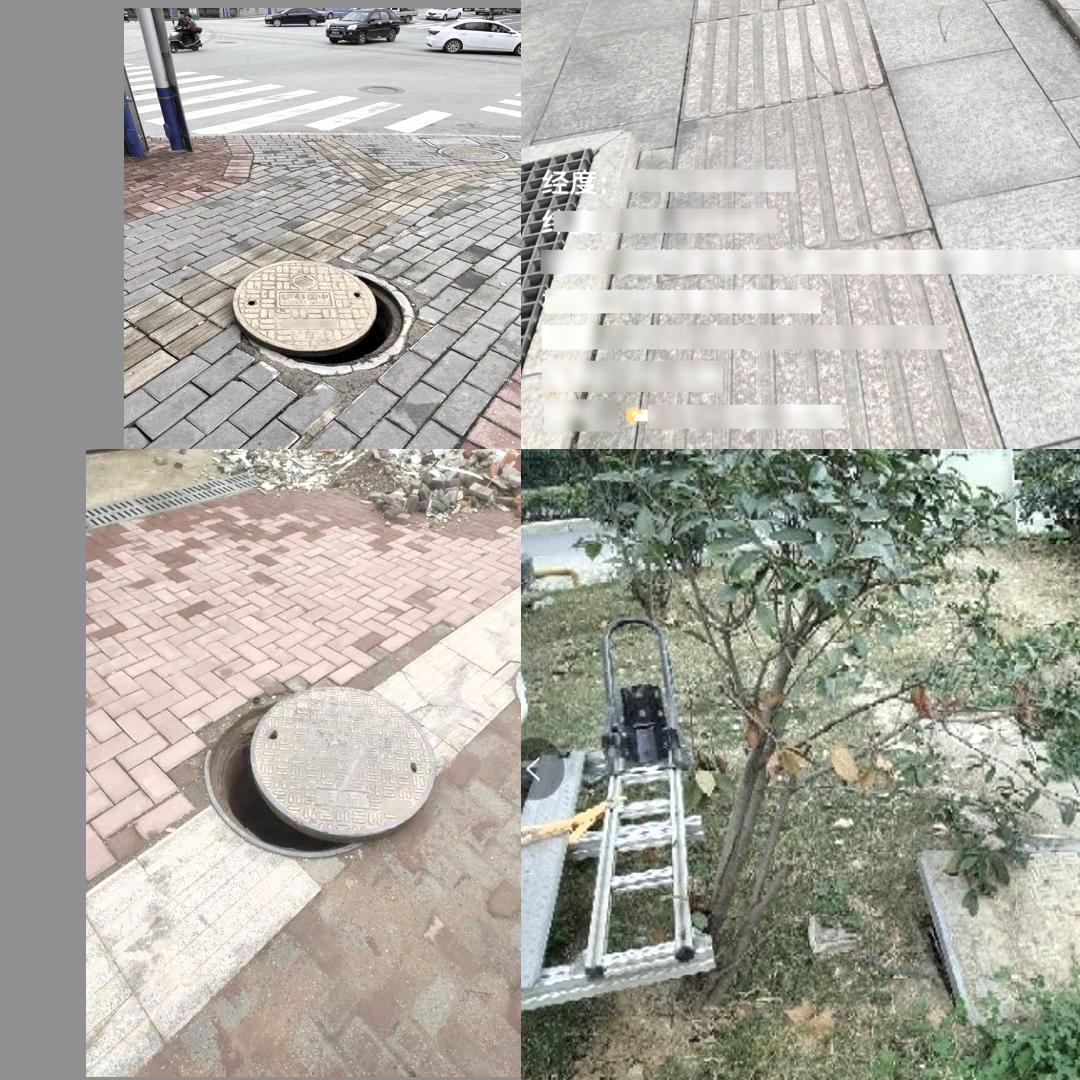uncovered: (893, 808, 1080, 1054), (202, 685, 435, 859), (231, 259, 414, 375)
